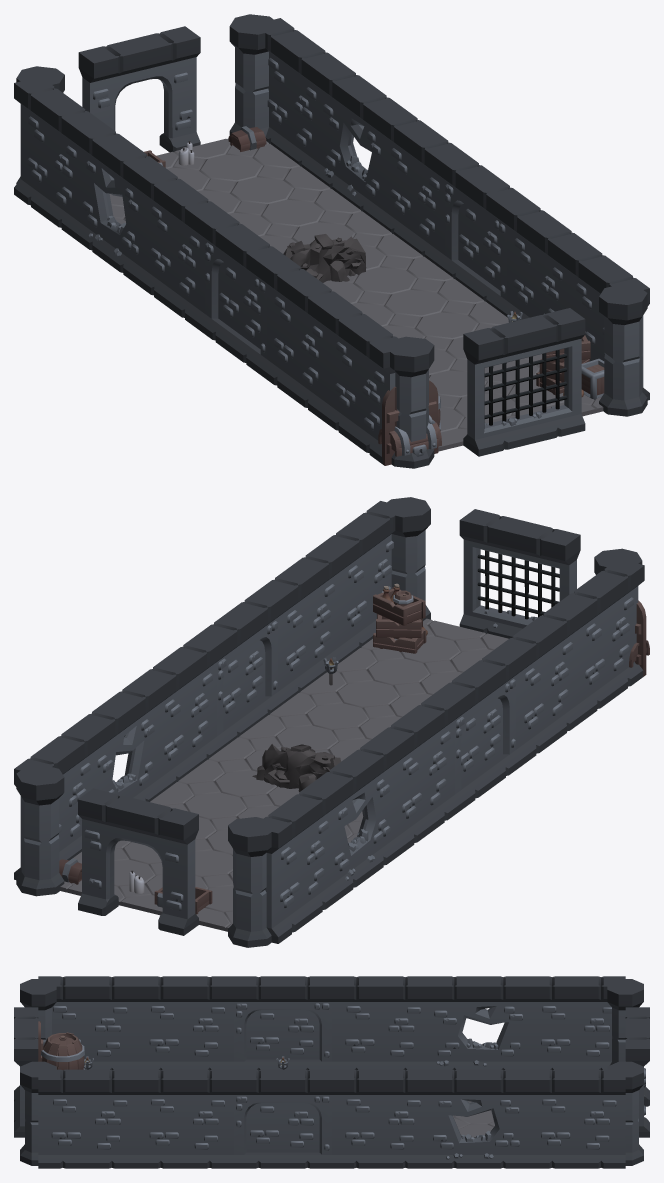
Rendered from facility_corridor.glb.
3 renders of one model, top to bottom at view 1: azimuth 30°, elevation 25°; view 2: azimuth 150°, elevation 25°; view 3: azimuth 270°, elevation 25°, orthographic. The views are drawn at different scales.
Visible parts, largest first — view 1: wall_gated.001, wall_doorway.001, wall.005, wall.007, wall_arched.001, wall.003, wall.006, wall_arched.002, wall_broken.001, wall.001, wall_broken.002, wall.008 (+18 smaller); view 2: wall_doorway.001, wall_gated.001, wall.007, wall.003, wall_arched.001, wall.005, wall.001, wall_arched.002, wall_broken.001, wall.006, wall.004, wall_broken.002 (+16 smaller); view 3: wall.008, wall.002, wall.004, wall.006, wall_arched.002, wall.003, wall.005, wall_arched.001, wall_broken.002, wall_broken.001, wall.007, wall.001 (+8 smaller).
Part boxes in pixels (x1=…): wall_gated.001: x1=463, y1=308, x2=585, y2=456; wall_doorway.001: x1=78, y1=26, x2=200, y2=152; wall.005: x1=137, y1=166, x2=224, y2=329; wall.007: x1=14, y1=77, x2=101, y2=239; wall_arched.001: x1=198, y1=211, x2=286, y2=374; wall.003: x1=260, y1=257, x2=347, y2=419; wall.006: x1=377, y1=108, x2=464, y2=266; wall_arched.002: x1=438, y1=153, x2=526, y2=311; wall_broken.001: x1=75, y1=121, x2=163, y2=284; wall.001: x1=322, y1=302, x2=408, y2=464; wall_broken.002: x1=315, y1=63, x2=402, y2=221; wall.008: x1=254, y1=18, x2=341, y2=176; wall_doorway.001: x1=78, y1=788, x2=198, y2=935; wall_gated.001: x1=459, y1=509, x2=580, y2=638; wall.007: x1=256, y1=782, x2=339, y2=943; wall.003: x1=496, y1=603, x2=583, y2=764; wall_arched.001: x1=435, y1=648, x2=522, y2=809; wall.005: x1=374, y1=693, x2=461, y2=854; wall.001: x1=557, y1=559, x2=644, y2=720; wall_arched.002: x1=197, y1=590, x2=284, y2=747; wall_broken.001: x1=313, y1=737, x2=400, y2=899; wall.006: x1=136, y1=635, x2=223, y2=791; wall.004: x1=258, y1=545, x2=345, y2=702; wall_broken.002: x1=75, y1=679, x2=162, y2=801; wall.008: x1=527, y1=1069, x2=625, y2=1168; wall.002: x1=38, y1=1069, x2=136, y2=1168; wall.004: x1=136, y1=1069, x2=233, y2=1168; wall.006: x1=332, y1=1069, x2=429, y2=1168; wall_arched.002: x1=234, y1=1069, x2=331, y2=1168; wall.003: x1=136, y1=976, x2=233, y2=1070; wall.005: x1=332, y1=976, x2=429, y2=1070; wall_arched.001: x1=234, y1=976, x2=331, y2=1070; wall_broken.002: x1=430, y1=1069, x2=527, y2=1168; wall_broken.001: x1=430, y1=976, x2=527, y2=1070; wall.007: x1=527, y1=976, x2=625, y2=1069; wall.001: x1=38, y1=976, x2=136, y2=1069.
Size of the model in its own units: 10 by 4 by 26.
14 materials, 14 textured.
